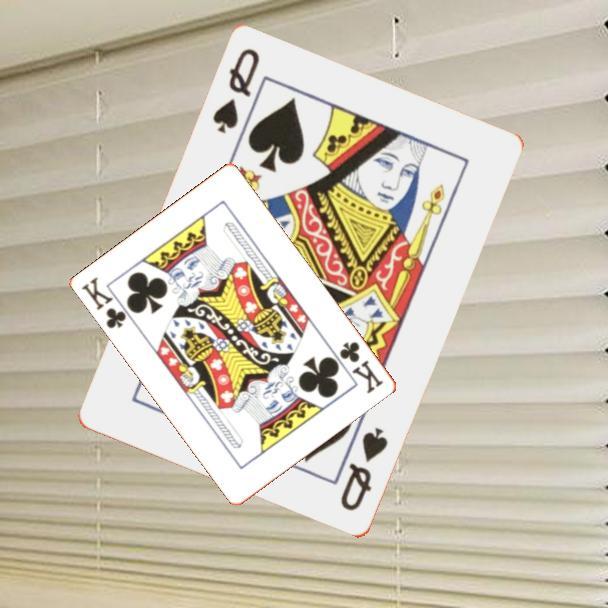c13: (78, 273, 130, 332), (336, 338, 387, 397)
s12: (209, 45, 263, 138), (337, 424, 392, 515)
